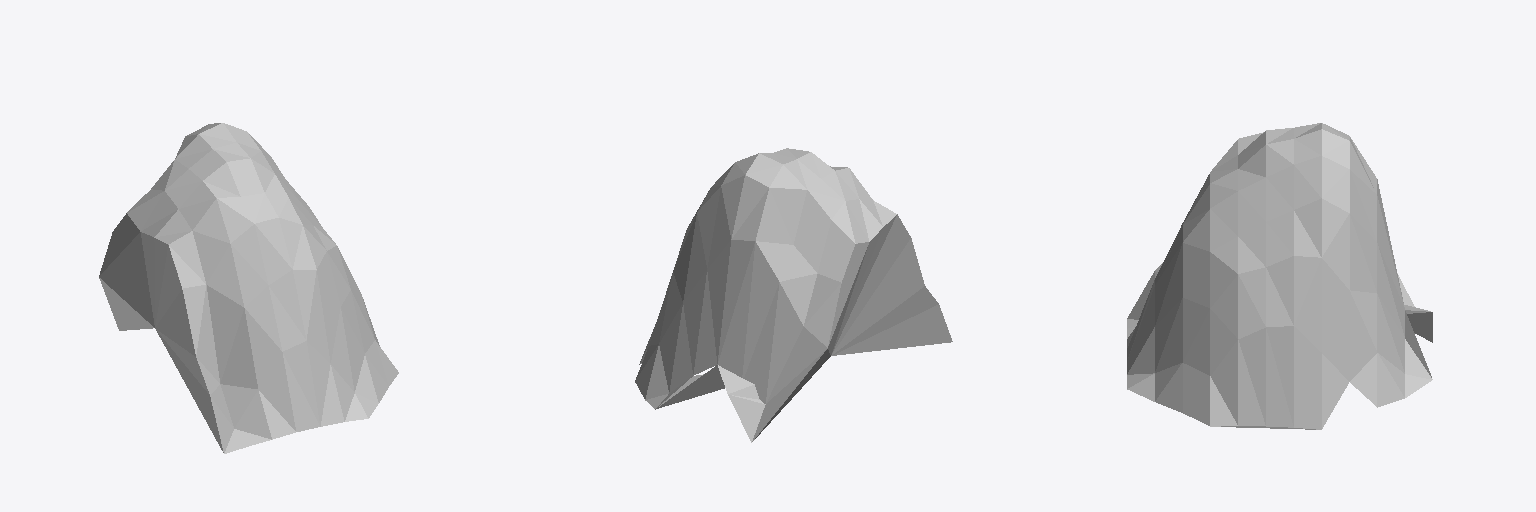
File: tree_47.obj
3 views of the same model, side by side, from view 1: azimuth 30°, elevation 25°; view 2: azimuth 150°, elevation 25°; view 3: azimuth 270°, elevation 25° (orthographic).
Visible parts, largest first — view 1: tree_47; view 2: tree_47; view 3: tree_47.
Boxes of the visible parts, box(x1,y1,x2,y2) form: tree_47: box(99, 123, 398, 453); tree_47: box(635, 148, 952, 442); tree_47: box(1127, 123, 1432, 429).
Bounding box in the file's own units: 9 × 9.6 × 11.